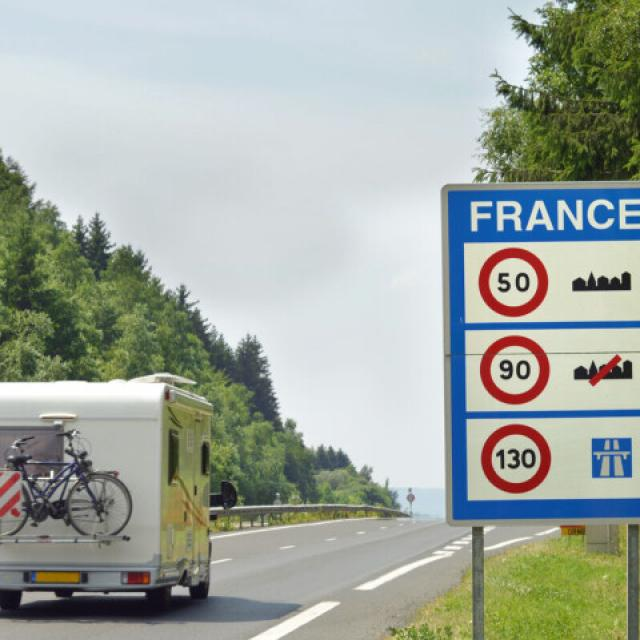Speed Limit -90-: (478, 332, 553, 409)
